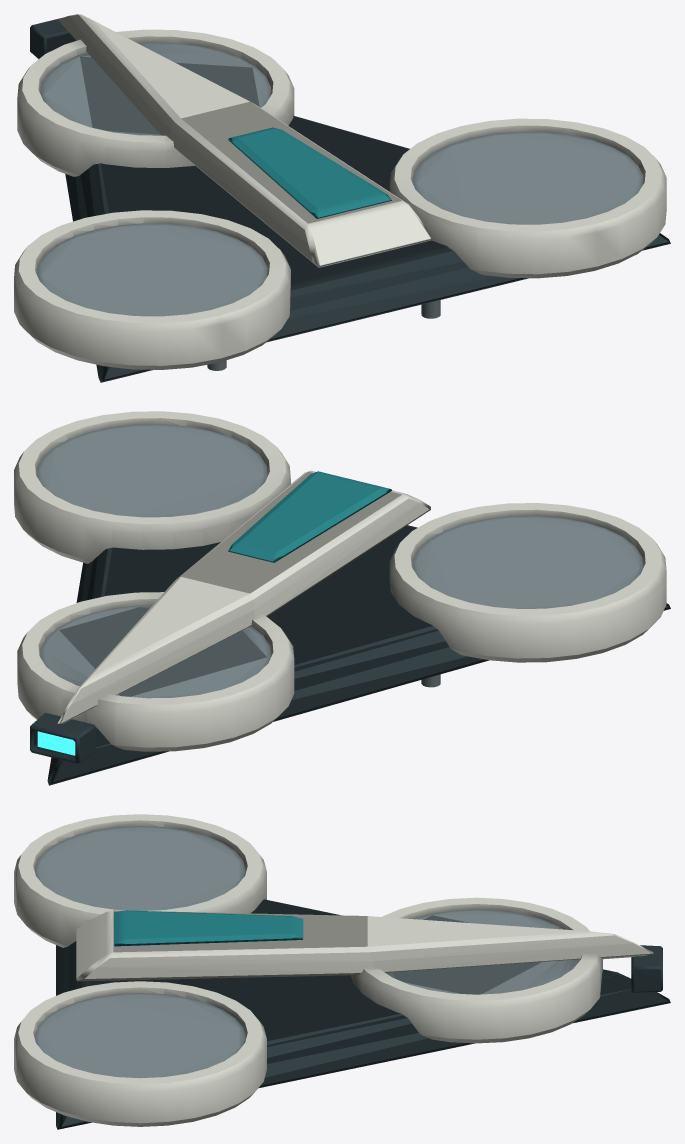
Rendered from KiteScout.glb.
3 renders of one model, top to bottom at view 1: azimuth 30°, elevation 25°; view 2: azimuth 150°, elevation 25°; view 3: azimuth 270°, elevation 25°, orthographic. The views are drawn at different scales.
Visible parts, largest first — view 1: export_KiteScout_TriangleFrame; view 2: export_KiteScout_TriangleFrame; view 3: export_KiteScout_TriangleFrame.
Boxes of the visible parts, left/top/right/bottom form: export_KiteScout_TriangleFrame: left=14, top=14, right=670, bottom=382; export_KiteScout_TriangleFrame: left=14, top=411, right=670, bottom=785; export_KiteScout_TriangleFrame: left=14, top=814, right=670, bottom=1129.
Bounding box in the file's own units: 3.28 × 0.805 × 3.32.
